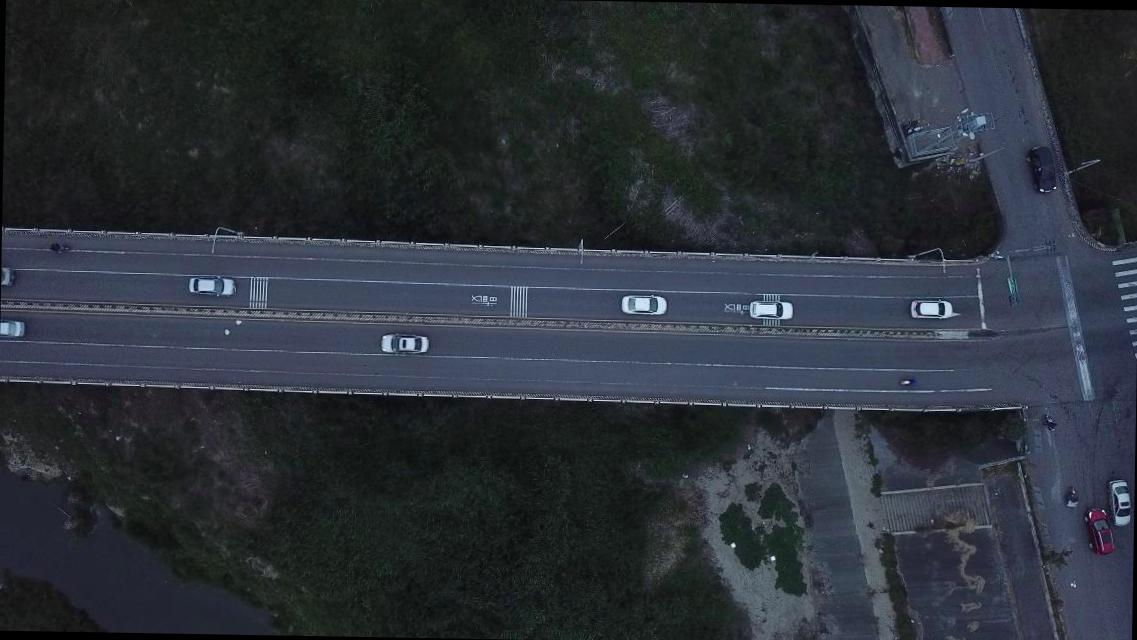vehicle: (1025, 144, 1058, 193), (1085, 507, 1116, 556), (1104, 480, 1132, 526), (910, 295, 954, 322), (748, 297, 794, 321), (380, 332, 430, 353), (623, 295, 668, 318), (188, 276, 236, 296), (0, 318, 26, 338)
